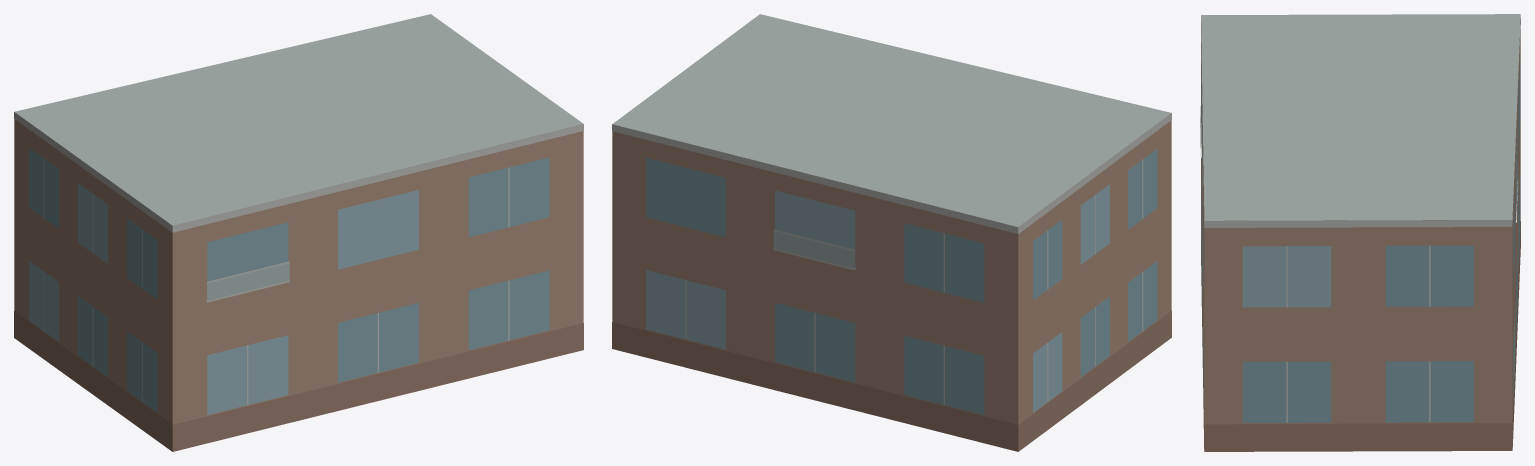
File: survey-upis-32835181.glb
3 views of the same model, side by side, from view 1: azimuth 30°, elevation 25°; view 2: azimuth 150°, elevation 25°; view 3: azimuth 270°, elevation 25° (orthographic). The views are drawn at different scales.
Parts seen in each view (by area): view 1: survey-upis-32835181.tmp; view 2: survey-upis-32835181.tmp; view 3: survey-upis-32835181.tmp.
Part boxes in pixels (x1,y1,x2,y2): survey-upis-32835181.tmp: [14, 14, 583, 451]; survey-upis-32835181.tmp: [612, 14, 1171, 451]; survey-upis-32835181.tmp: [1200, 14, 1520, 451].
Size of the model in its own units: 15.18 by 7.9 by 9.95.
